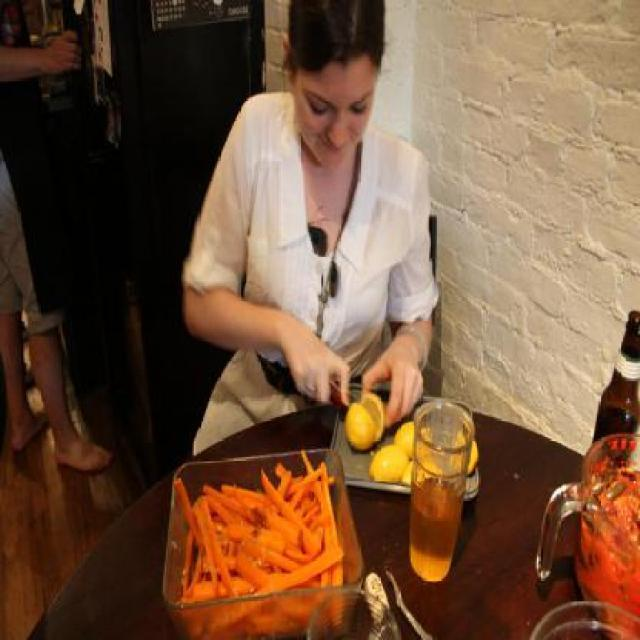Carrot: (178, 464, 358, 618)
